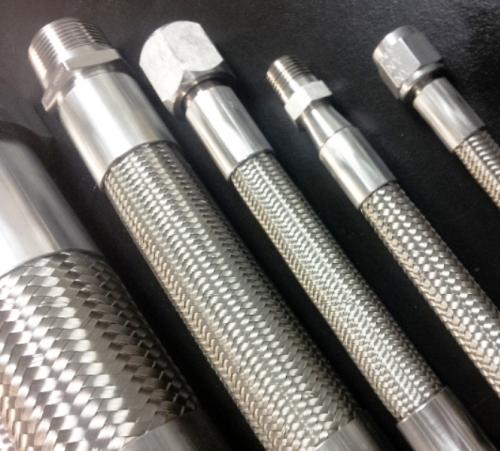Nonrec_Tangler: (22, 18, 481, 425)
